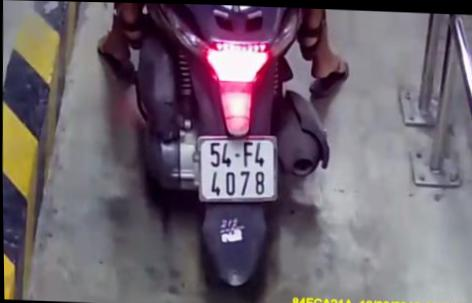LP: (197, 134, 281, 203)
